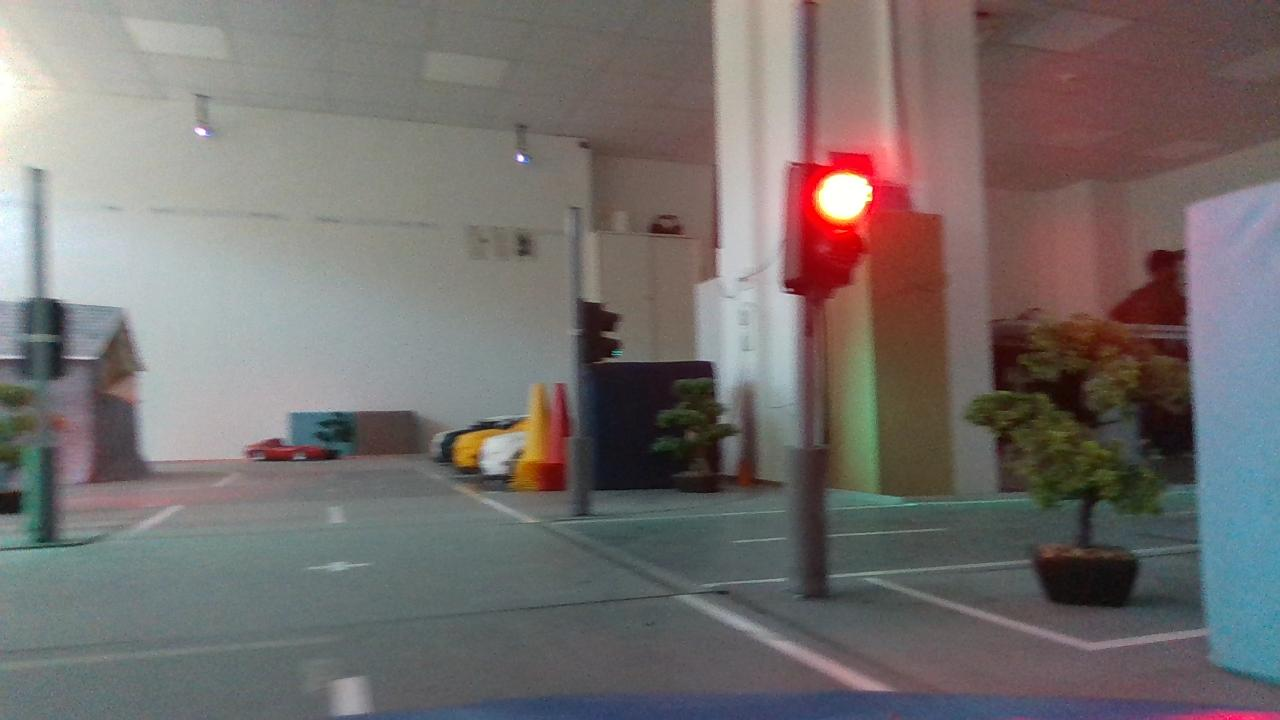traffic_light_red: (754, 143, 887, 320)
